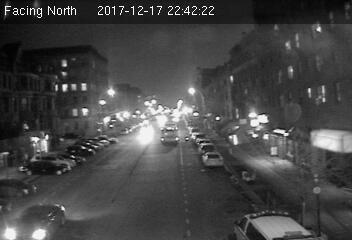bus: (158, 124, 179, 145)
car: (3, 201, 70, 240), (202, 152, 225, 169)
police: (230, 207, 318, 240)
